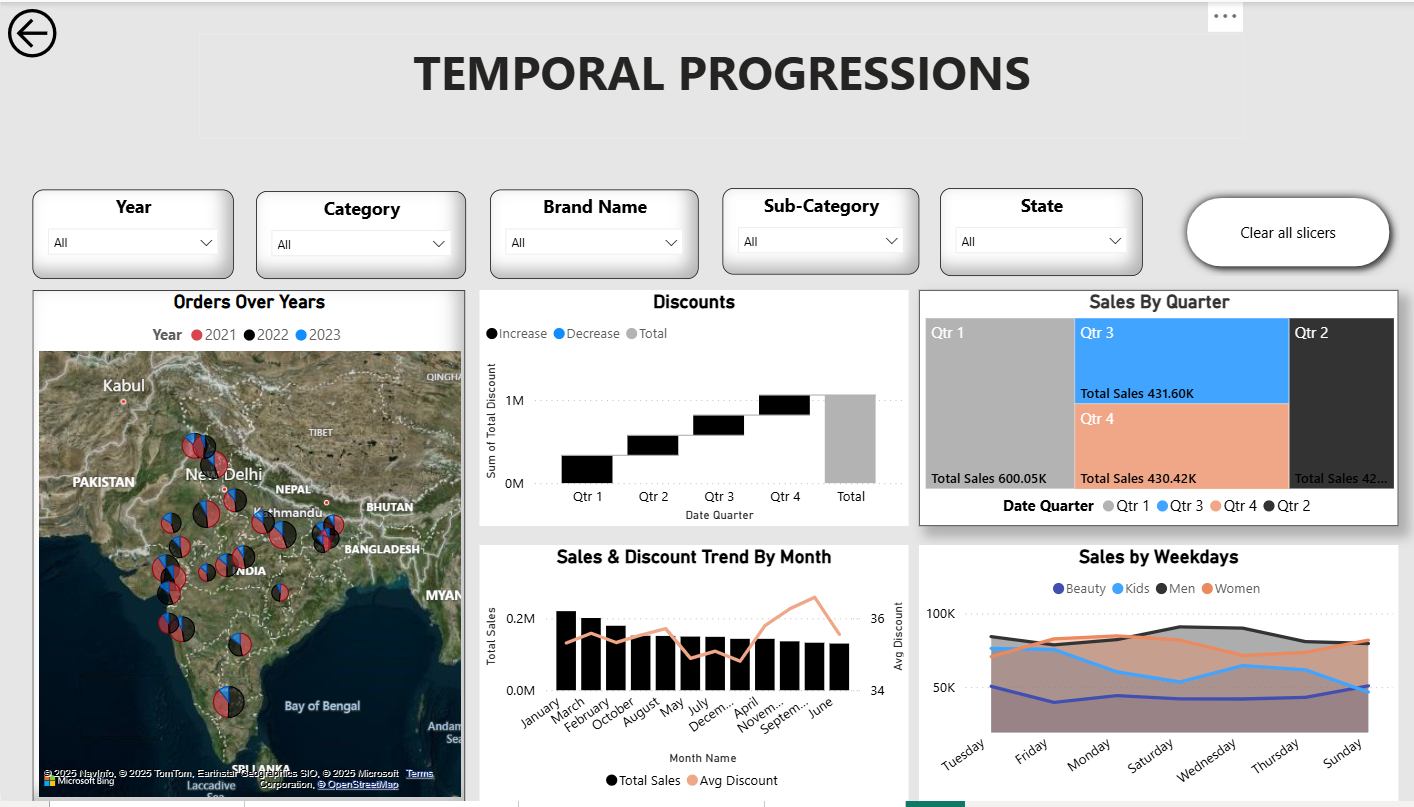

What the dashboard file says about the page in this screenshot:
{"tool":"powerbi","page":{"name":"Temporal Progressions","canvas":[1280,720],"ordinal":2},"visuals":[{"type":"textbox","box":[178.4,28.8,942.7,94.7],"z":0},{"type":"treemap","title":"Sales By Quarter","fields":{"Group":["Date Table.Date.Variation.Date Hierarchy.Quarter"],"Values":["Measures Myntra.Total Sales Amount","Measures Myntra.Avg OriPrice"]},"box":[827.4,259.3,432.2,212.7],"z":1000},{"type":"actionButton","box":[0,0,116.6,56.3],"z":2000},{"type":"map","title":"Orders Over Years","fields":{"Category":["dim_customers.City"],"Size":["Measures Myntra.Total Orders Count"],"Series":["Date Table.Date.Variation.Date Hierarchy.Year"]},"box":[28.8,259.3,389.7,461.1],"z":3000},{"type":"lineStackedColumnComboChart","title":"Sales & Discount Trend By Month","fields":{"Category":["Date Table.Month Name"],"Y":["Measures Myntra.Total Sales Amount"],"Y2":["Measures Myntra.Average Discount"]},"box":[430.9,489.9,387,230.5],"z":4000},{"type":"areaChart","title":"Sales by Weekdays","fields":{"Category":["Date Table.Day of the Week"],"Y":["Measures Myntra.Total Sales Amount"],"Series":["dim_products.Category"]},"box":[827.4,489.9,432.2,230.5],"z":5000},{"type":"waterfallChart","title":"Discounts","fields":{"Category":["Date Table.Date.Variation.Date Hierarchy.Quarter"],"Y":["Sum(Orders.Total Discount)"]},"box":[430.9,259.3,387,212.7],"z":6000},{"type":"slicer","title":"Year","fields":{"Values":["Date Table.Year"]},"box":[28.8,168.8,181.1,81],"z":7000},{"type":"slicer","title":"Brand Name","fields":{"Values":["dim_products.Brand Name"]},"box":[440.5,168.8,188,81],"z":8000},{"type":"slicer","title":"Category","fields":{"Values":["dim_products.Category"]},"box":[229.2,170.2,189.4,79.6],"z":9000},{"type":"slicer","title":"Sub-Category","fields":{"Values":["dim_products.Sub-category"]},"box":[650.4,167.4,177,78.2],"z":10000},{"type":"slicer","title":"State","fields":{"Values":["Customers.State"]},"box":[846.7,167.4,182.5,79.6],"z":11000},{"type":"actionButton","box":[1059.4,167.4,200.3,79.6],"z":12000}]}

Visuals, with their boxes in screenshot pixels (x1, y1, x2, y2), scaled from the page's 1280x720 canvas onto the 1414x807 screenshot:
textbox: Rect(197, 32, 1238, 138)
"Sales By Quarter" treemap: Rect(914, 291, 1391, 529)
actionButton: Rect(0, 0, 129, 63)
"Orders Over Years" map: Rect(32, 291, 462, 806)
"Sales & Discount Trend By Month" lineStackedColumnComboChart: Rect(476, 549, 904, 806)
"Sales by Weekdays" areaChart: Rect(914, 549, 1391, 806)
"Discounts" waterfallChart: Rect(476, 291, 904, 529)
"Year" slicer: Rect(32, 189, 232, 280)
"Brand Name" slicer: Rect(487, 189, 694, 280)
"Category" slicer: Rect(253, 191, 462, 280)
"Sub-Category" slicer: Rect(718, 188, 914, 275)
"State" slicer: Rect(935, 188, 1137, 277)
actionButton: Rect(1170, 188, 1392, 277)
